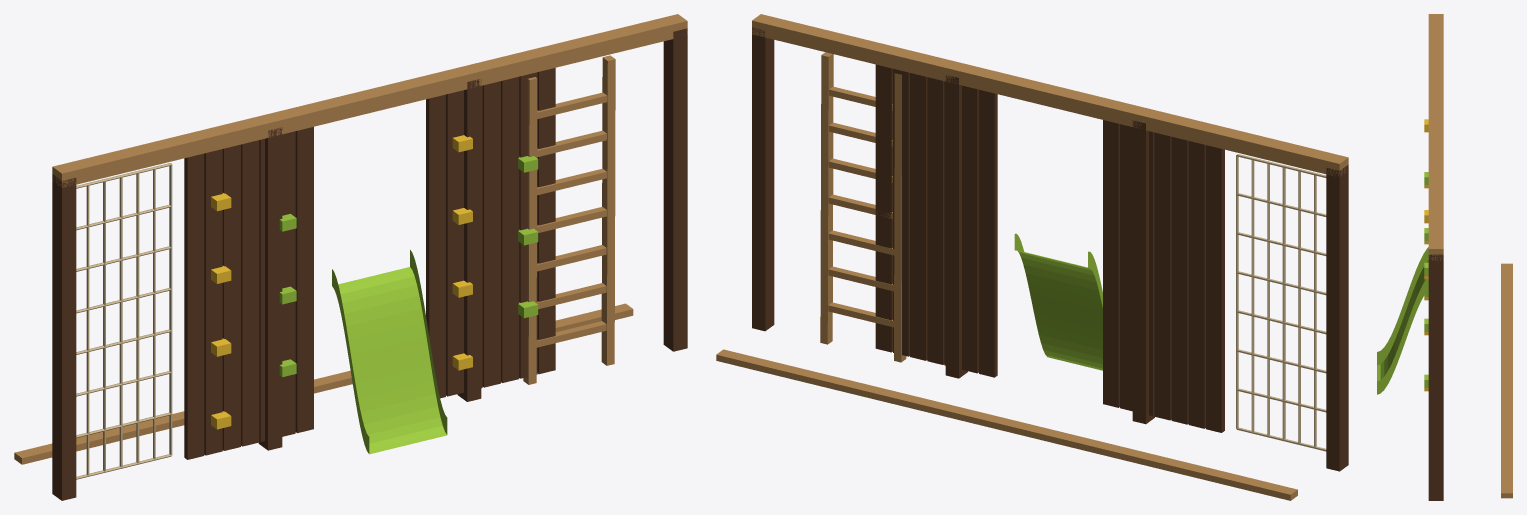
The picture shows the model from 3 angles, left to right: view 1: azimuth 30°, elevation 25°; view 2: azimuth 150°, elevation 25°; view 3: azimuth 270°, elevation 25°; orthographic projection. The views are drawn at different scales.
Parts seen in each view (by area): view 1: SW-A404; view 2: SW-A404; view 3: SW-A404.
Part boxes in pixels (box(x1,y1,x2,y2)): SW-A404: box(14, 14, 687, 500); SW-A404: box(716, 14, 1348, 500); SW-A404: box(1377, 14, 1512, 500).
Bounding box in the file's own units: 4.5 × 2.25 × 1.1.
